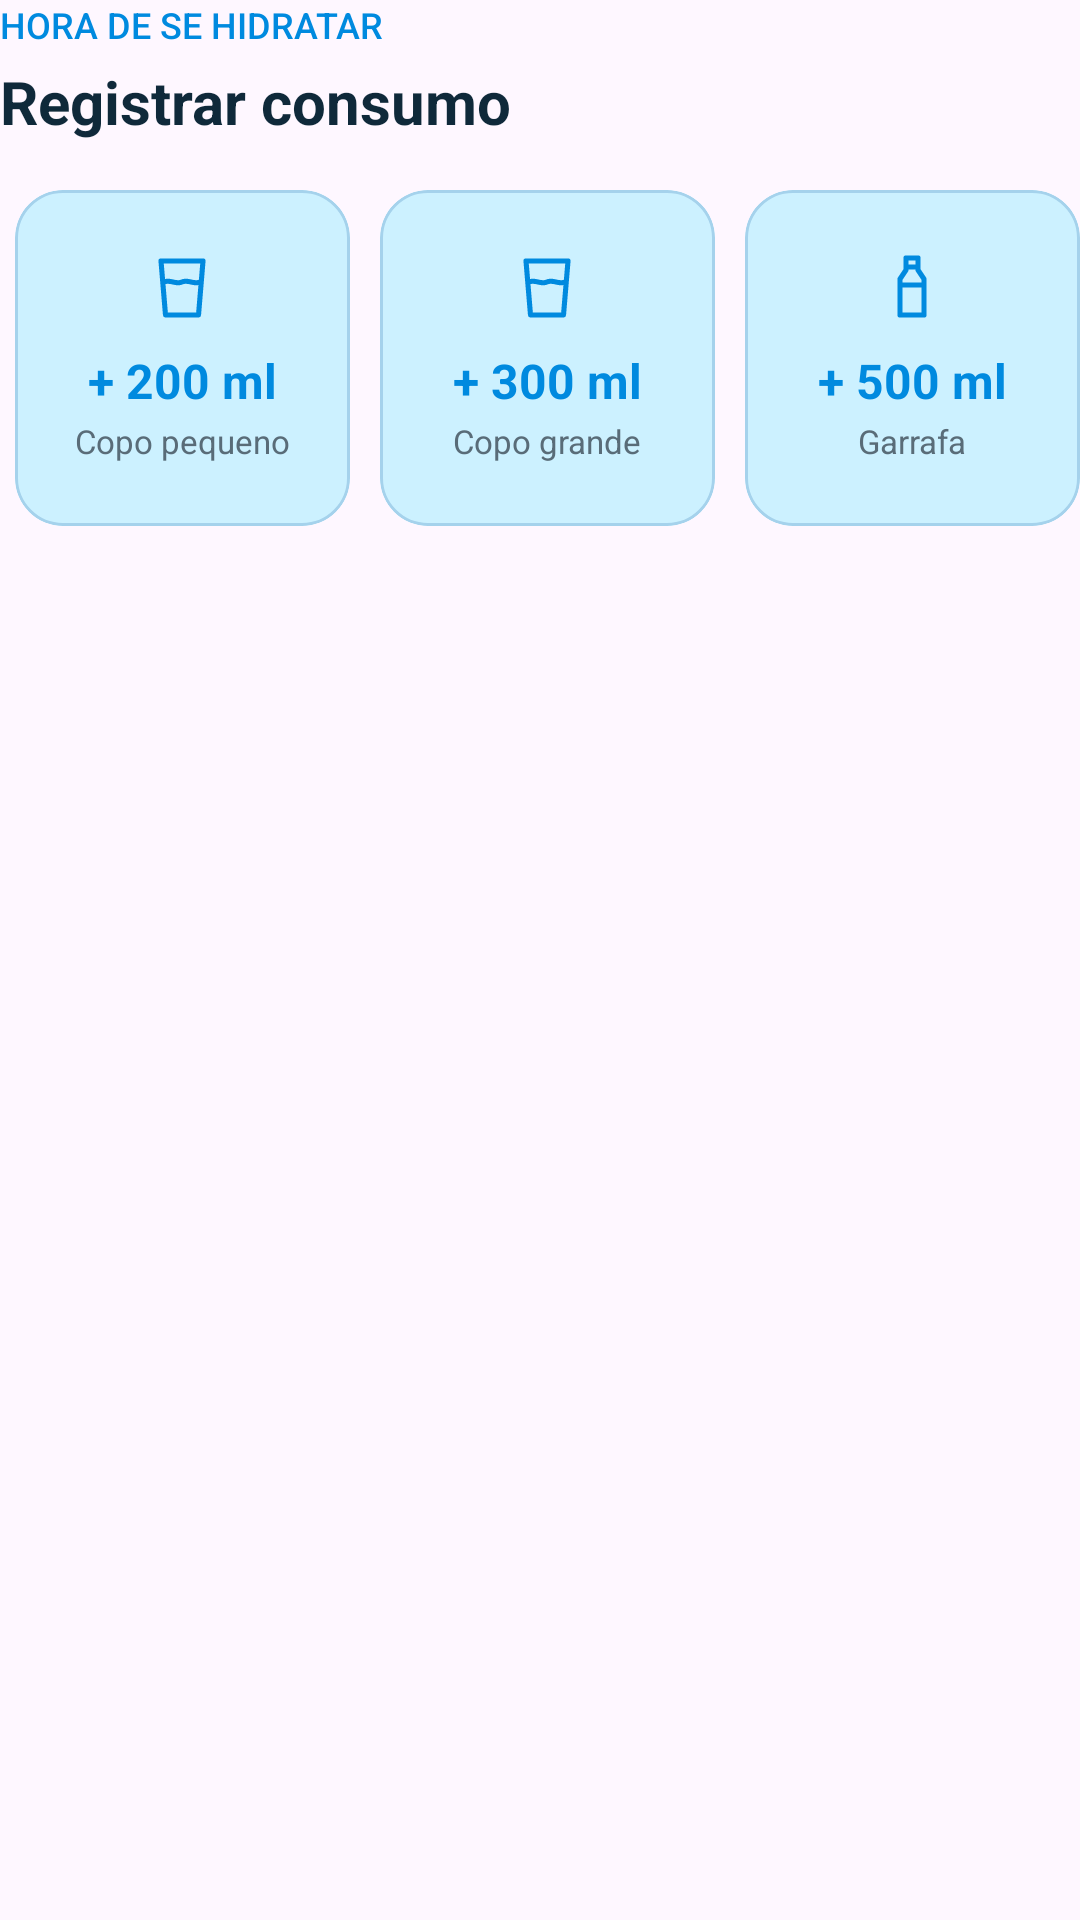

Where to tap for icons on this 1080 x 1920 app screen, as (x=x, y=y):
glass water: (x=182, y=288), (x=547, y=288)
water bottle: (x=912, y=286)
